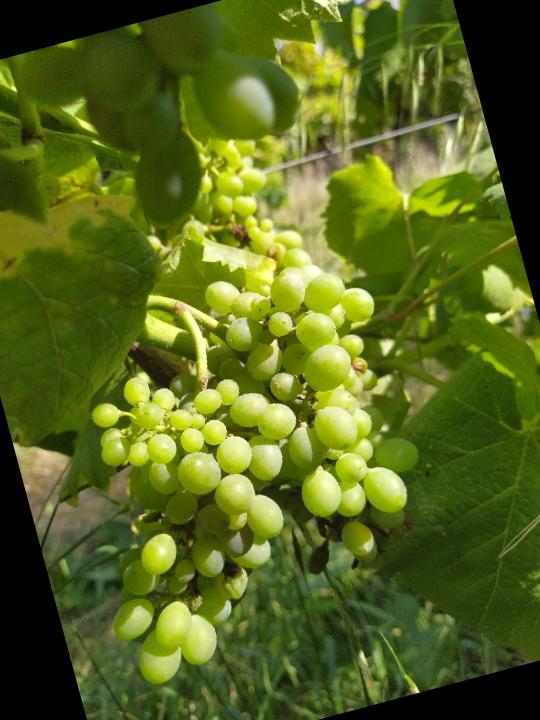grape: (27, 228, 460, 696)
